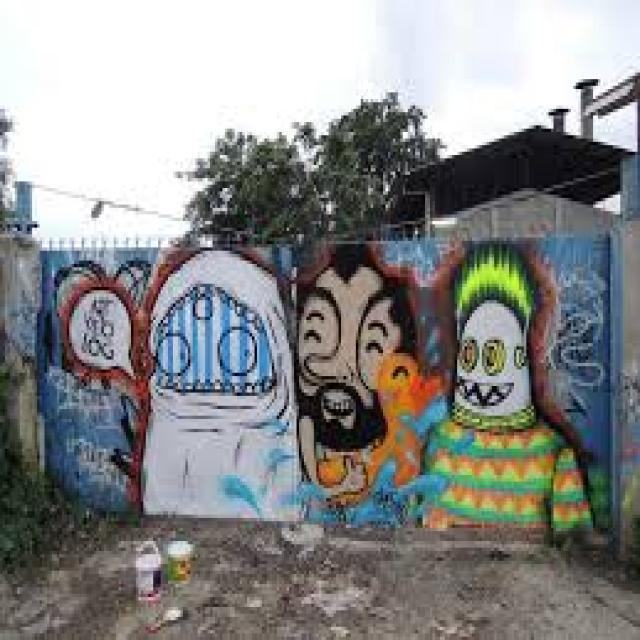-: (40, 240, 619, 528)
